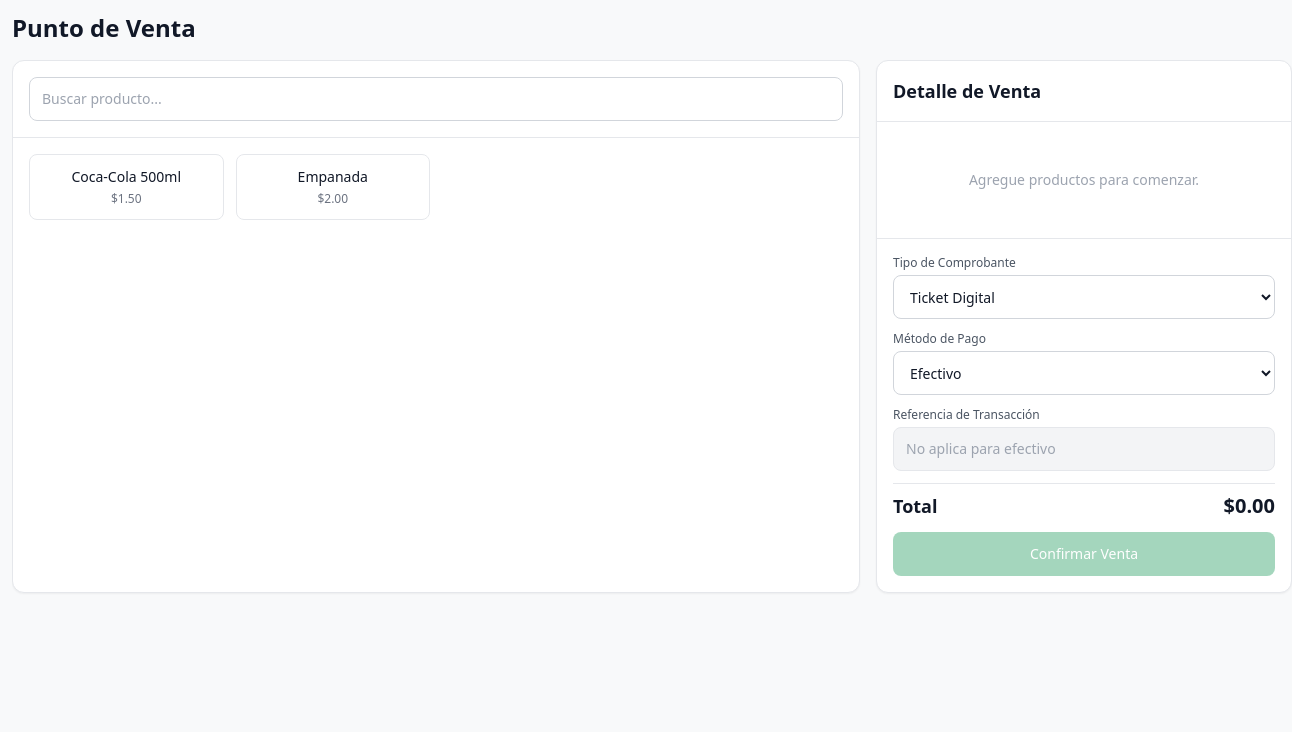
it: PosNormalPage — Precio Negociado UI & Payload › UI condicionality (Req 5.1, 5.2, 5.3) › renders read-only text when toggle=false
Check: the text "Coca-Cola 500ml" is shown, box [72, 167, 181, 186]
Click the button "Coca-Cola 500ml $1.50": [126, 187] box [29, 154, 224, 220]
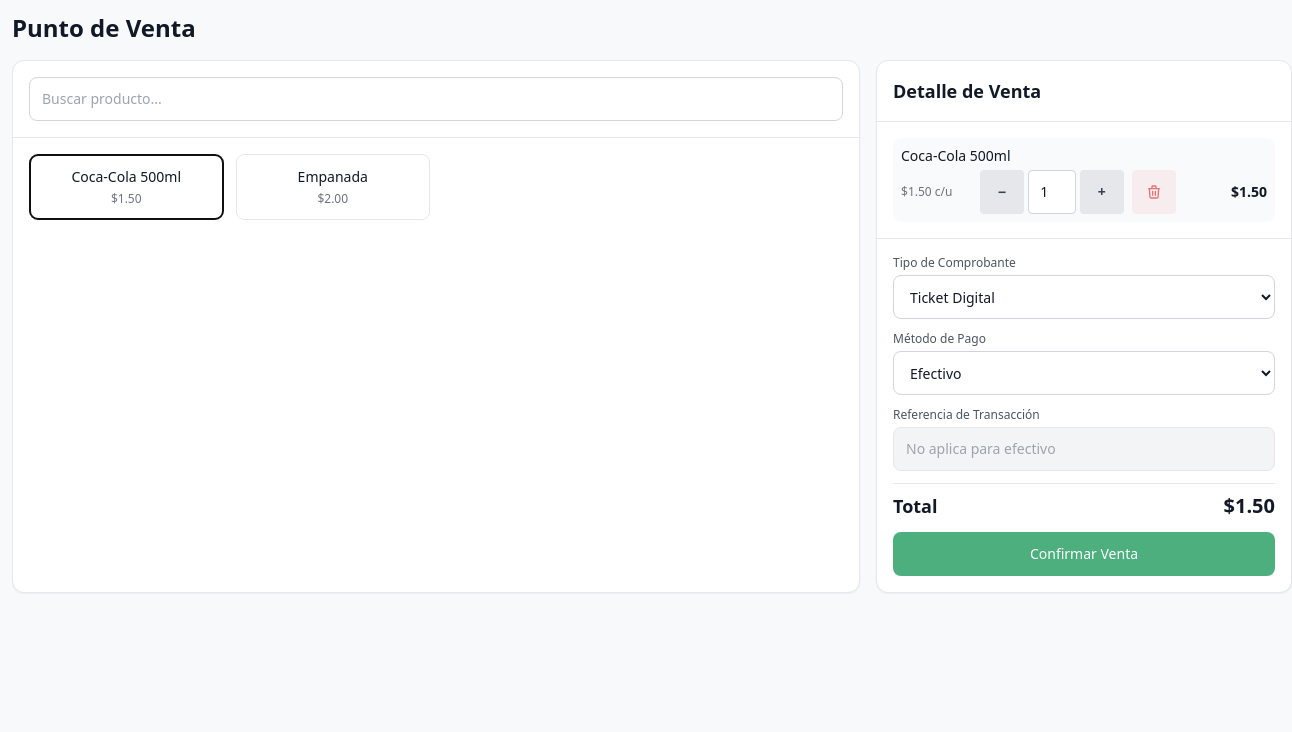
Check: the text "$1.50 c/u" is shown, box [901, 184, 952, 200]
